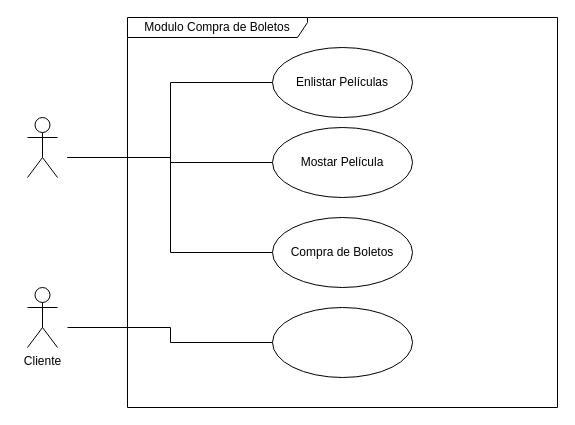
Image size: 575x425. Some labels were removed from this diagram. Each missing label, with the box of its shape:
Selección de asientos: (272, 306, 412, 378)
Taquillero: (26, 116, 58, 178)
